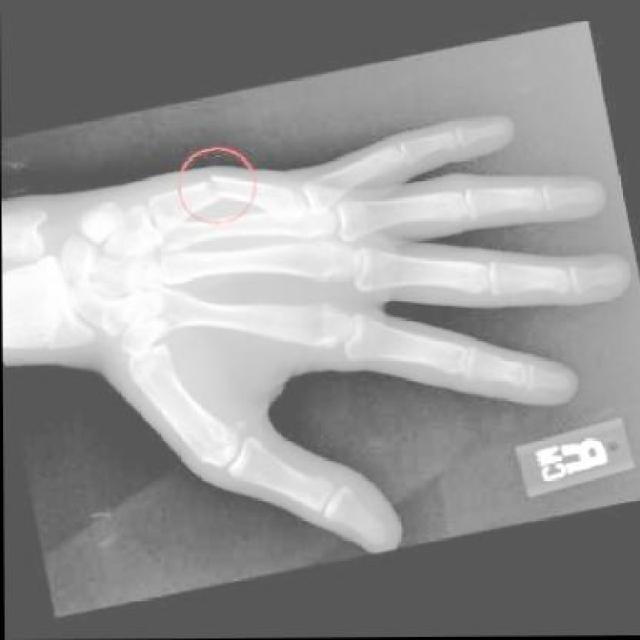Fracture: (191, 168, 248, 212)
